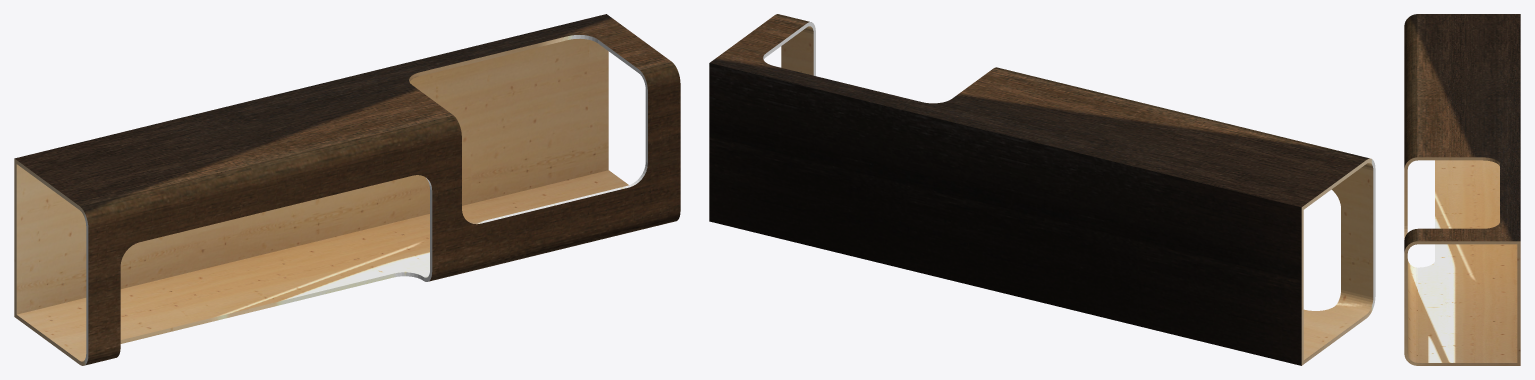
File: cabinet4.glb
The picture shows the model from 3 angles, left to right: view 1: azimuth 30°, elevation 25°; view 2: azimuth 150°, elevation 25°; view 3: azimuth 270°, elevation 25°; orthographic projection. The views are drawn at different scales.
Parts seen in each view (by area): view 1: Cabinet_04; view 2: Cabinet_04; view 3: Cabinet_04.
Boxes of the visible parts, left/top/right/bottom form: Cabinet_04: left=14, top=14, right=680, bottom=365; Cabinet_04: left=709, top=14, right=1375, bottom=365; Cabinet_04: left=1404, top=14, right=1520, bottom=365.
Bounding box in the file's own units: 157 × 40.23 × 34.
2 materials, 2 textured.
